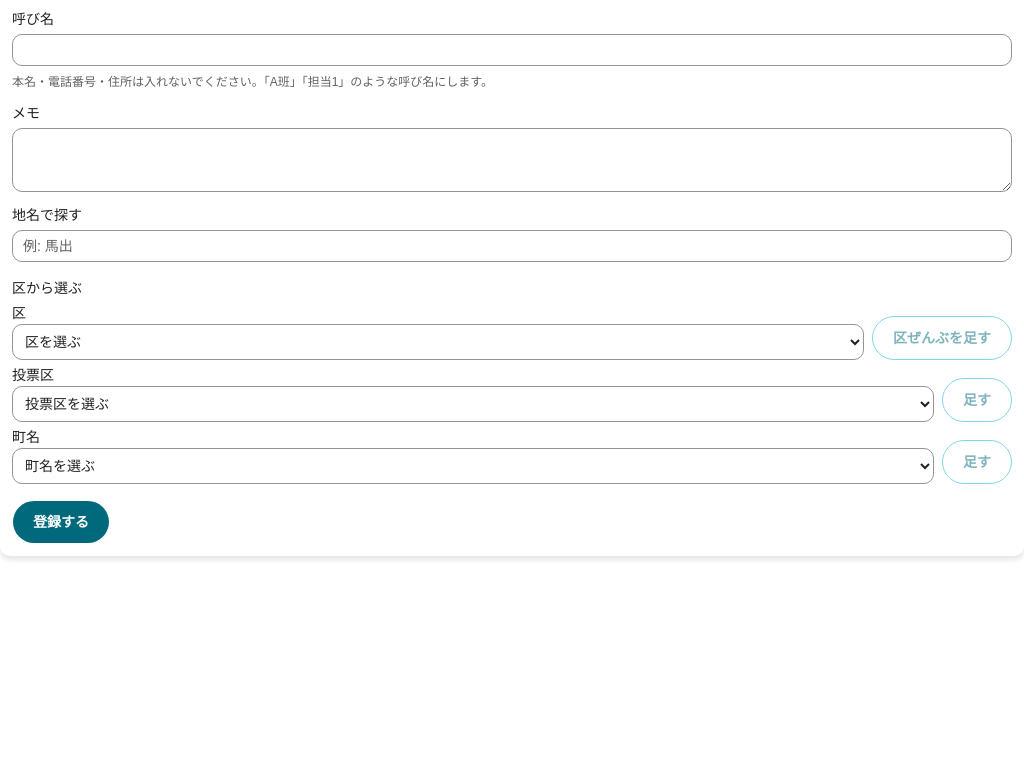
Test: 範囲が 0 個なら登録できない
This screenshot has width=1024, height=768.
In the field labelled "呼び名": (512, 50) [12,34,1012,66], type "B班"
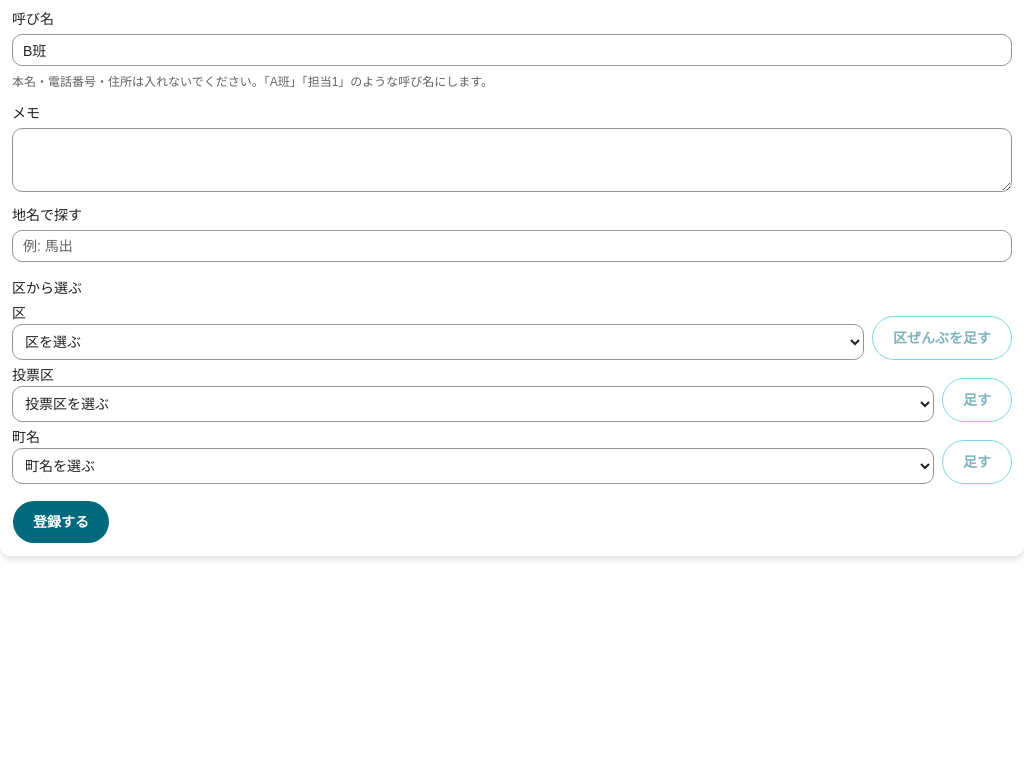
Click the button "登録する": click(61, 522) [12,500,110,544]
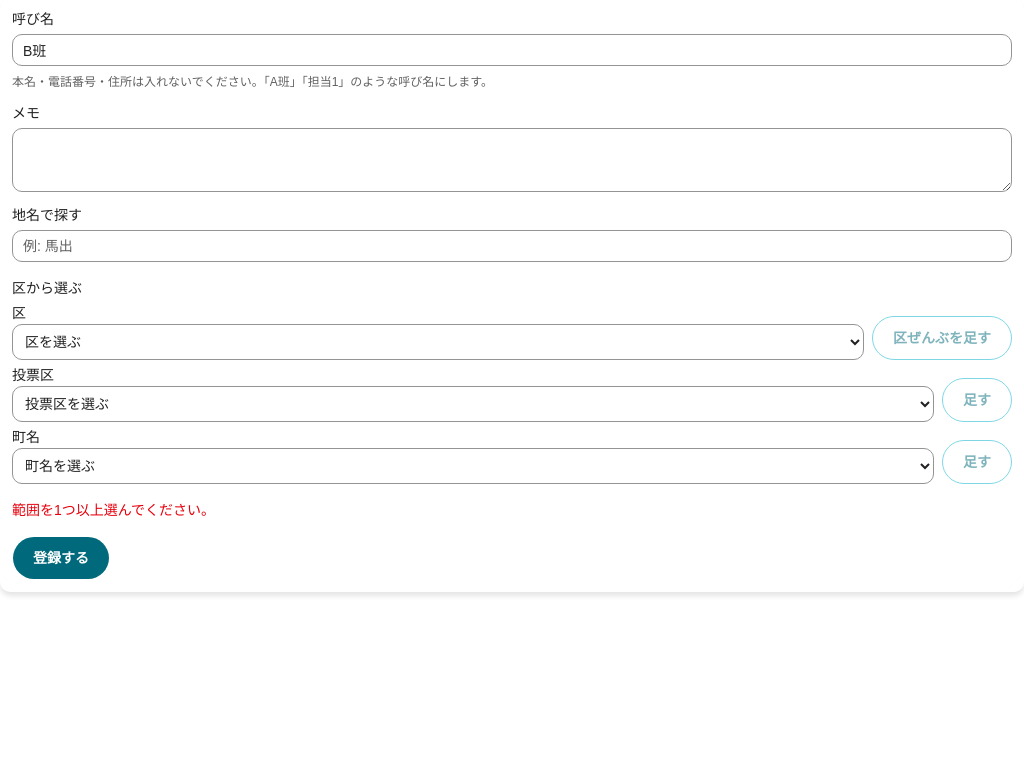
Check: the message reads "範囲を1つ以上選んでください。", box [12,502,215,518]
